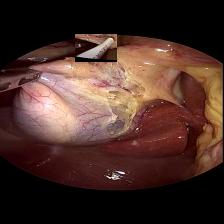Grasper: (0, 62, 44, 94)
Hook: (75, 32, 117, 60)
